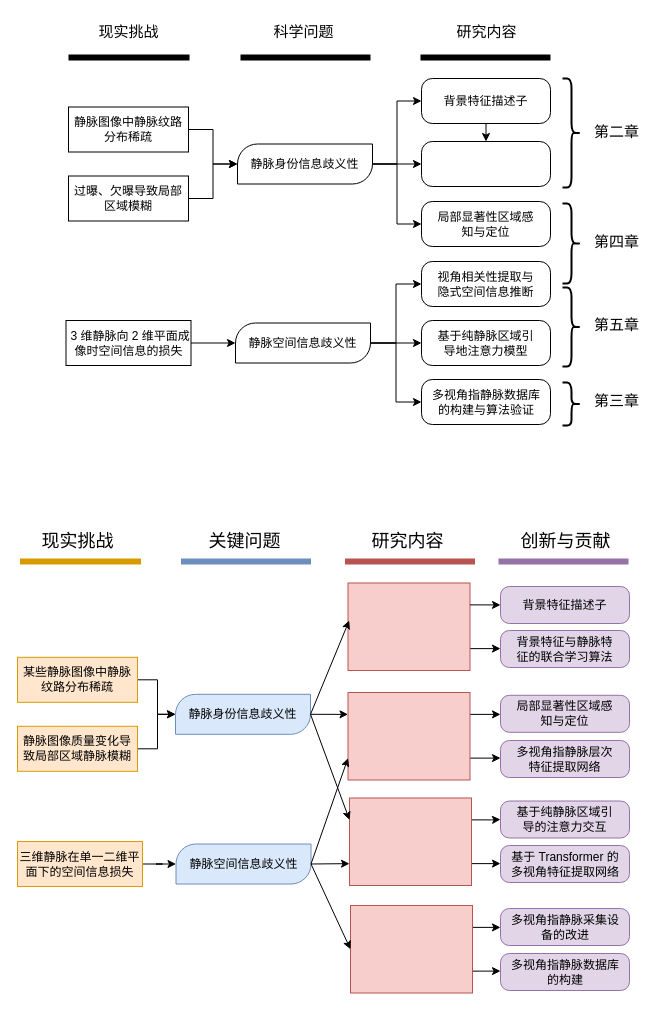
The diagram is 665 pixels wide and 1011 high, and some of its shapes have lost their labels. Here are the shapes that lost their labels. From the top down, the box of each, then its label:
(420, 140, 550, 186): 背景特征与静脉特征的联合学习
(347, 582, 470, 670): 研究内容 1 基于背景先 验的指静脉联合特征提 取算法
(347, 692, 470, 780): 研究内容 3 基于局部显著性区域引导的多视角特征提取
(348, 797, 472, 886): 研究内容 4 基于静脉区域引导的多视角静脉特征提取
(350, 904, 472, 993): 研究内容 2 多视角指静脉数据库的构建
